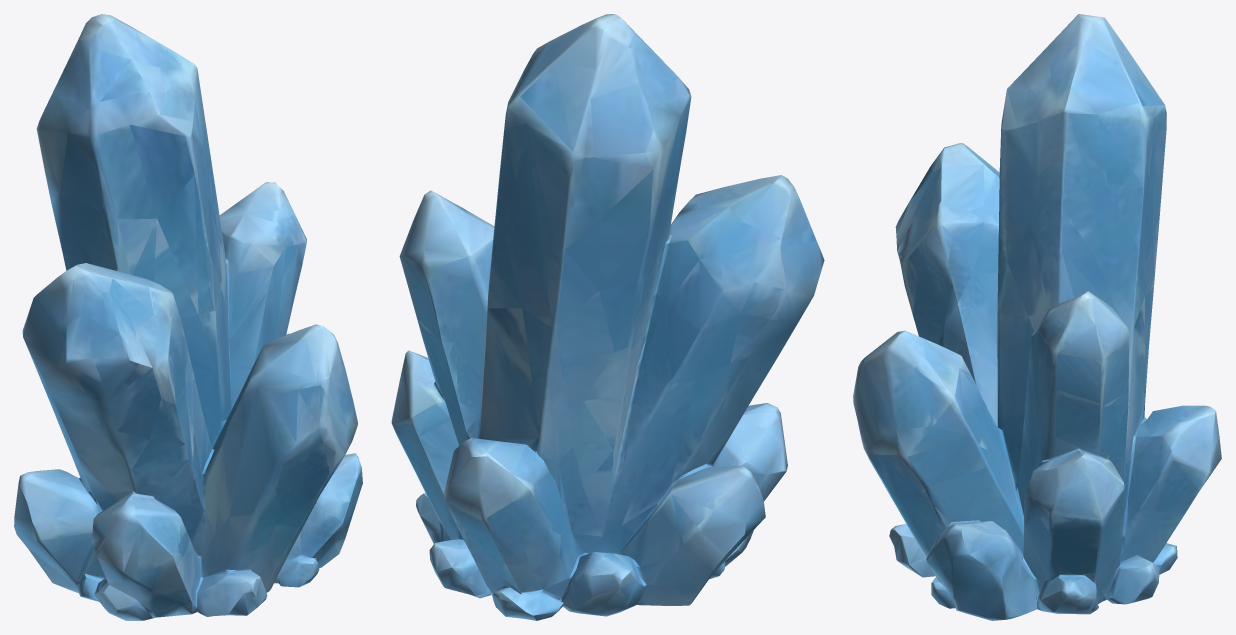
The model's file is racimo_hielo_g_2500.glb.
3 views of the same model, side by side, from view 1: azimuth 30°, elevation 25°; view 2: azimuth 150°, elevation 25°; view 3: azimuth 270°, elevation 25° (orthographic). The views are drawn at different scales.
Visible parts, largest first — view 1: racimo_hielo_g_malla; view 2: racimo_hielo_g_malla; view 3: racimo_hielo_g_malla.
Part boxes in pixels (x1,y1,x2,y2): racimo_hielo_g_malla: (14, 14, 362, 620); racimo_hielo_g_malla: (391, 14, 824, 620); racimo_hielo_g_malla: (853, 14, 1221, 620).
Bounding box in the file's own units: 0.1912 × 0.305 × 0.1928.
Materials: 1 (1 with a texture image).
